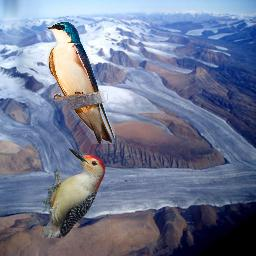Swallow: (46, 21, 115, 144)
Woodpecker: (42, 148, 105, 238)
